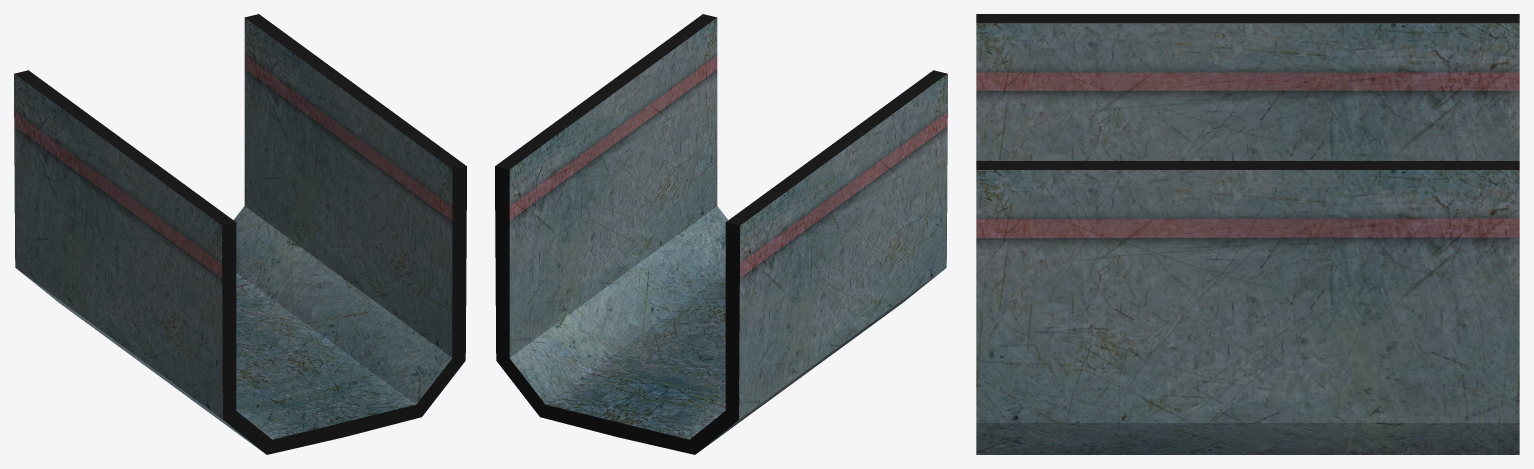
File: Lab_el_straight_collaps.FBX
3 views of the same model, side by side, from view 1: azimuth 30°, elevation 25°; view 2: azimuth 150°, elevation 25°; view 3: azimuth 270°, elevation 25° (orthographic). The views are drawn at different scales.
Parts seen in each view (by area): view 1: Sr; view 2: Sr; view 3: Sr.
Part boxes in pixels (x1,y1,x2,y2): Sr: (14, 14, 466, 454); Sr: (495, 14, 947, 454); Sr: (976, 14, 1519, 454).
Size of the model in its own units: 3.4 by 3.2 by 5.
